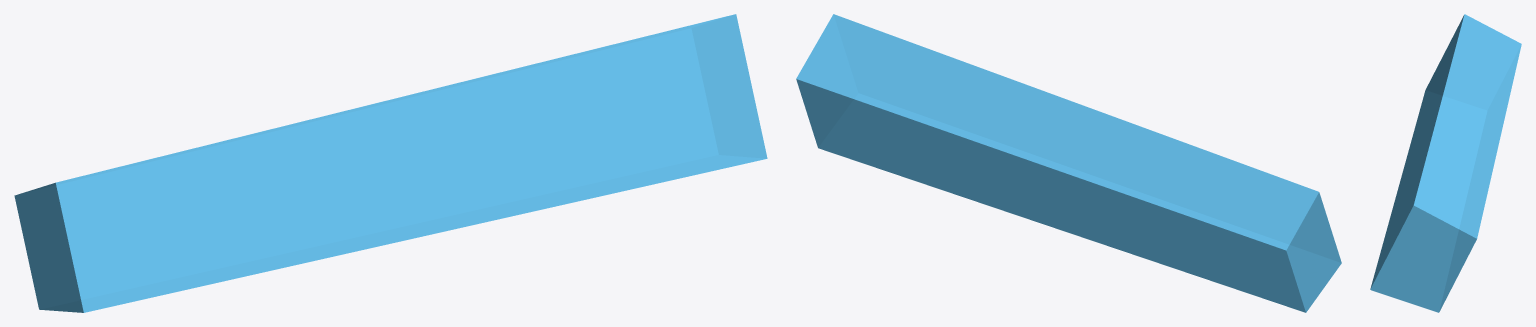
Rendered from Event_420107950_HErechit_39.fbx.
3 renders of one model, left to right at view 1: azimuth 30°, elevation 25°; view 2: azimuth 150°, elevation 25°; view 3: azimuth 270°, elevation 25°, orthographic. The views are drawn at different scales.
Visible parts, largest first — view 1: Model; view 2: Model; view 3: Model.
Part boxes in pixels (<box>): Model: <box>14,14,767,312</box>; Model: <box>796,14,1341,312</box>; Model: <box>1370,14,1521,312</box>.
Bounding box in the file's own units: 1.13 × 0.2966 × 0.3308.
